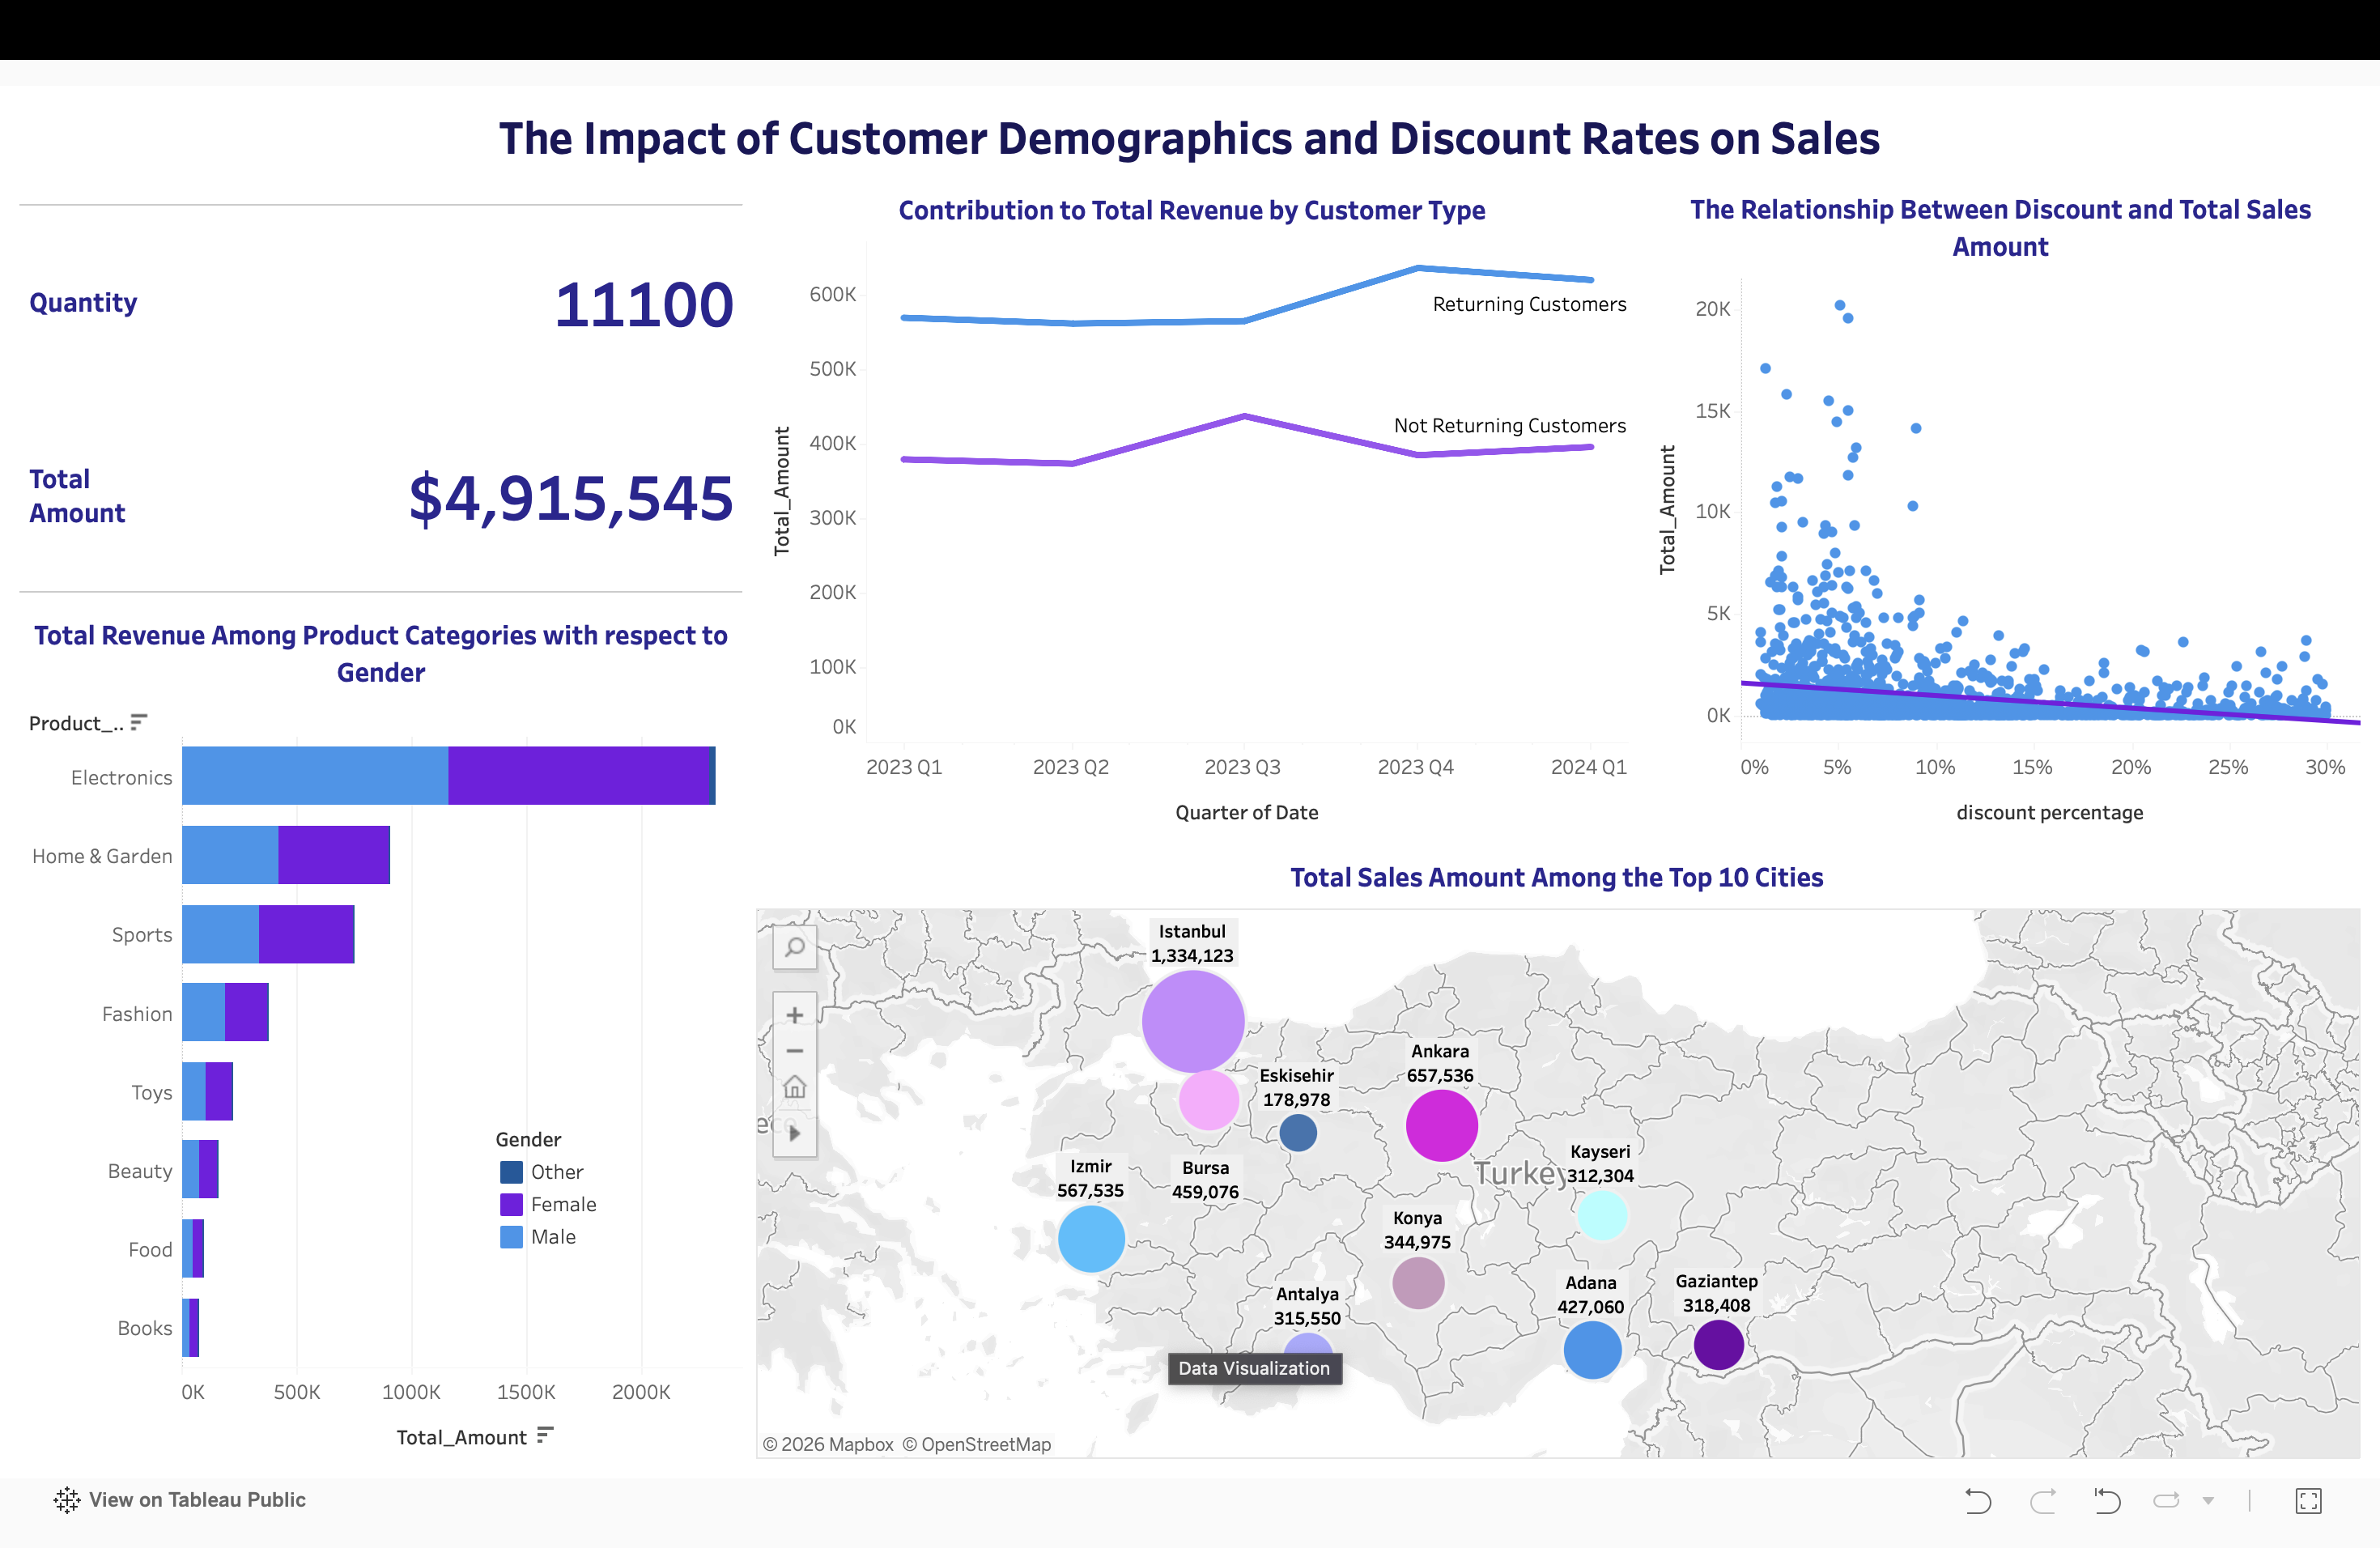

What the dashboard file says about the page in this screenshot:
{"tool":"tableau","page":{"name":"Dashboard 1","canvas":[1000,1000],"units":"permille","ordinal":0},"visuals":[{"type":"title","box":[6.5,11.3,987,63.5]},{"type":"worksheet","title":"Sheet 9 (2)","mark":"Automatic","box":[6.5,74.8,308.9,301.4]},{"type":"worksheet","title":"++contrubition to total income","mark":"Automatic","rows":["Total_Amount"],"cols":["Date"],"box":[315.4,74.8,371.6,471.5]},{"type":"worksheet","title":"sales and discount","mark":"Automatic","rows":["Total_Amount"],"cols":["Calculation_1514053911238754305"],"box":[687,74.8,306.5,471.5]},{"type":"worksheet","title":"++gender category sales amount","mark":"Automatic","rows":["Product_Category"],"cols":["Total_Amount"],"box":[6.5,376.1,308.9,612.6]},{"type":"worksheet","title":"map","mark":"Automatic","box":[315.4,546.3,678.1,442.4]},{"type":"legend","title":"++gender category sales amount","param":"[federated.0mcxb3g0eeu7n713vtcdd1p4da6u].[none:Gender:nk]","box":[208.3,746.1,88.7,125.5]}]}

Visuals, with their boxes on the dashboard's canvas, which has no fixed pixel size, in thousandths of its width and height (x1, y1, x2, y2). These are canvas units, not pixel positions in the 2380x1548 screenshot, which may show the page scaled, cropped or inside an application window:
title: <box>6,11,994,75</box>
"Sheet 9 (2)" worksheet: <box>6,75,315,376</box>
"++contrubition to total income" worksheet: <box>315,75,687,546</box>
"sales and discount" worksheet: <box>687,75,994,546</box>
"++gender category sales amount" worksheet: <box>6,376,315,989</box>
"map" worksheet: <box>315,546,994,989</box>
"++gender category sales amount" legend: <box>208,746,297,872</box>
